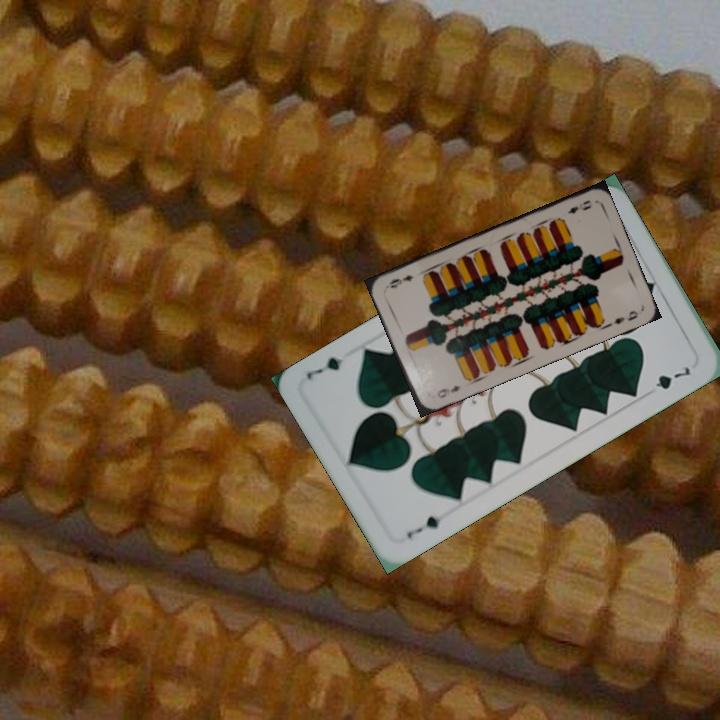E9: (563, 196, 594, 216), (433, 381, 462, 401)
G7: (402, 511, 450, 542)
